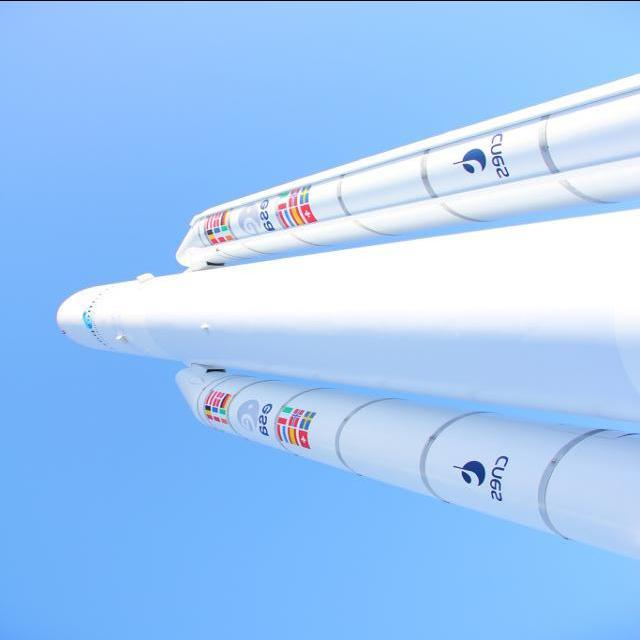missile: (135, 366, 640, 561)
